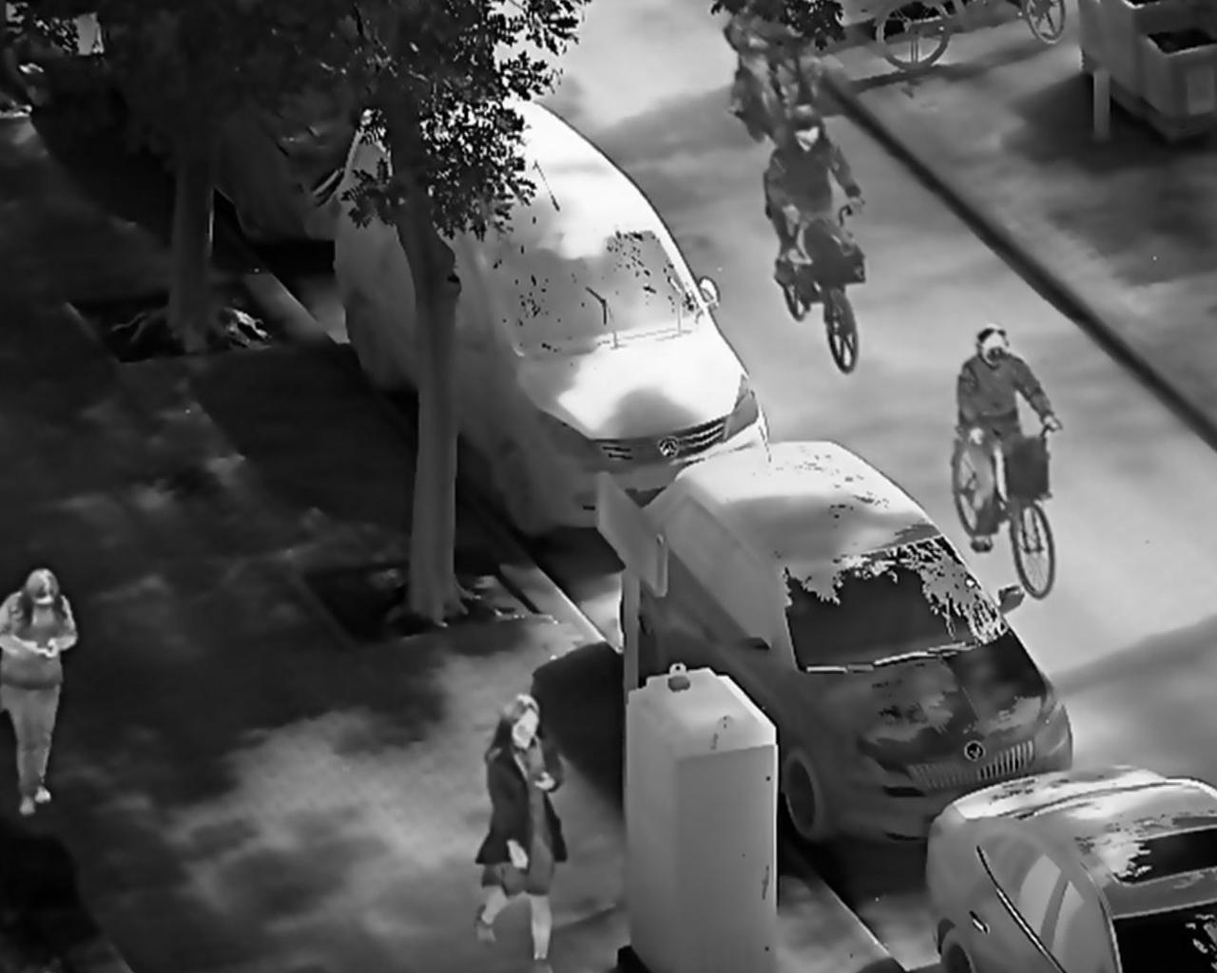person: (470, 688, 573, 973), (953, 321, 1066, 558), (2, 561, 83, 819), (761, 97, 869, 286)
